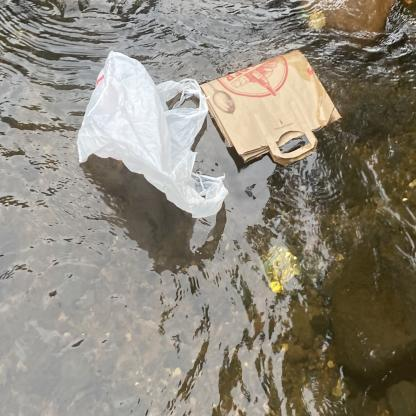trash: (69, 47, 230, 225), (196, 42, 344, 167), (299, 0, 416, 42)
